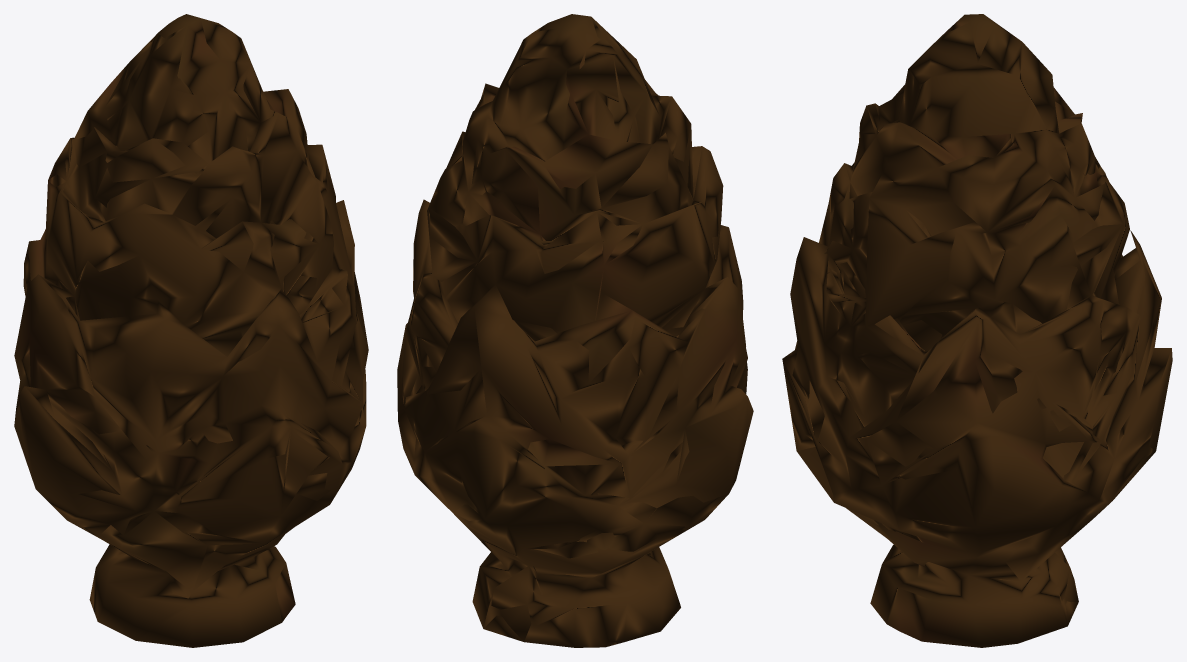
The model's file is gen3d-pinecone-lod0.glb.
3 renders of one model, left to right at view 1: azimuth 30°, elevation 25°; view 2: azimuth 150°, elevation 25°; view 3: azimuth 270°, elevation 25°, orthographic.
Visible parts, largest first — view 1: part_0; view 2: part_0; view 3: part_0.
Part boxes in pixels (bbox=[...]): part_0: bbox=[14, 14, 368, 647]; part_0: bbox=[397, 14, 753, 647]; part_0: bbox=[782, 14, 1172, 647].
Bounding box in the file's own units: 0.5962 × 1 × 0.6036.
